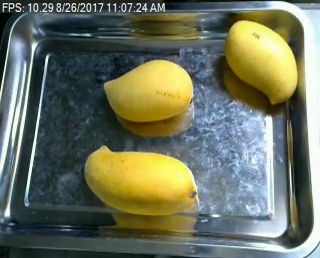Mango: (81, 140, 203, 216), (220, 16, 303, 104), (99, 55, 197, 123)
